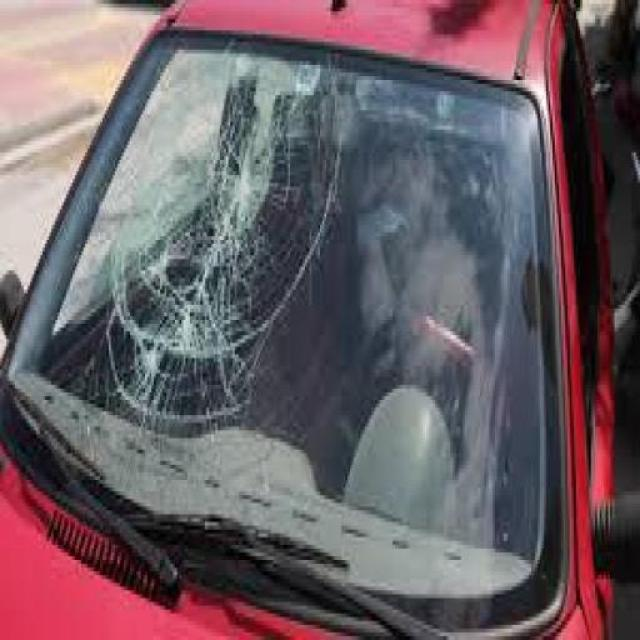crack: (96, 55, 348, 428)
